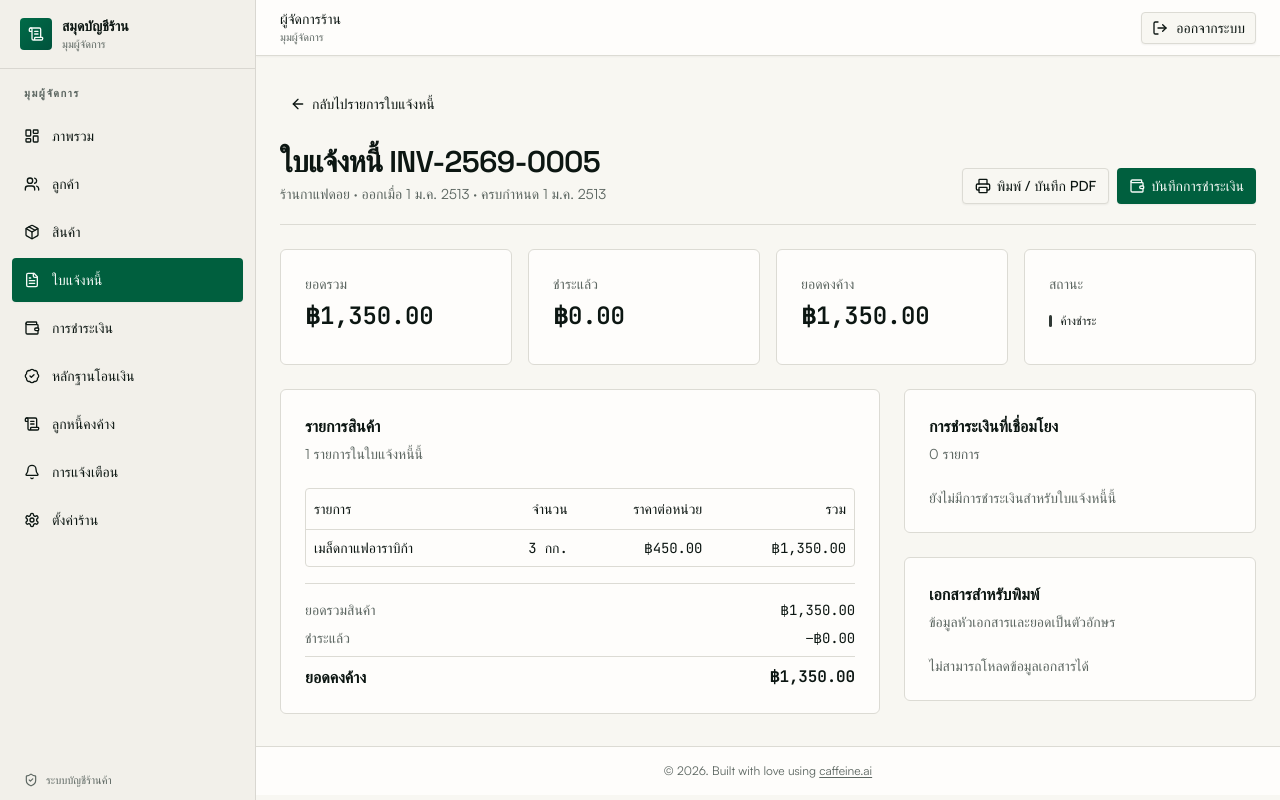
Test: InvoiceDetailPage › rejects a zero payment amount before submitting
Click the button with test id "invoice_detail.record_payment_button". click: (1187, 186)
box: [1117,168,1256,204]
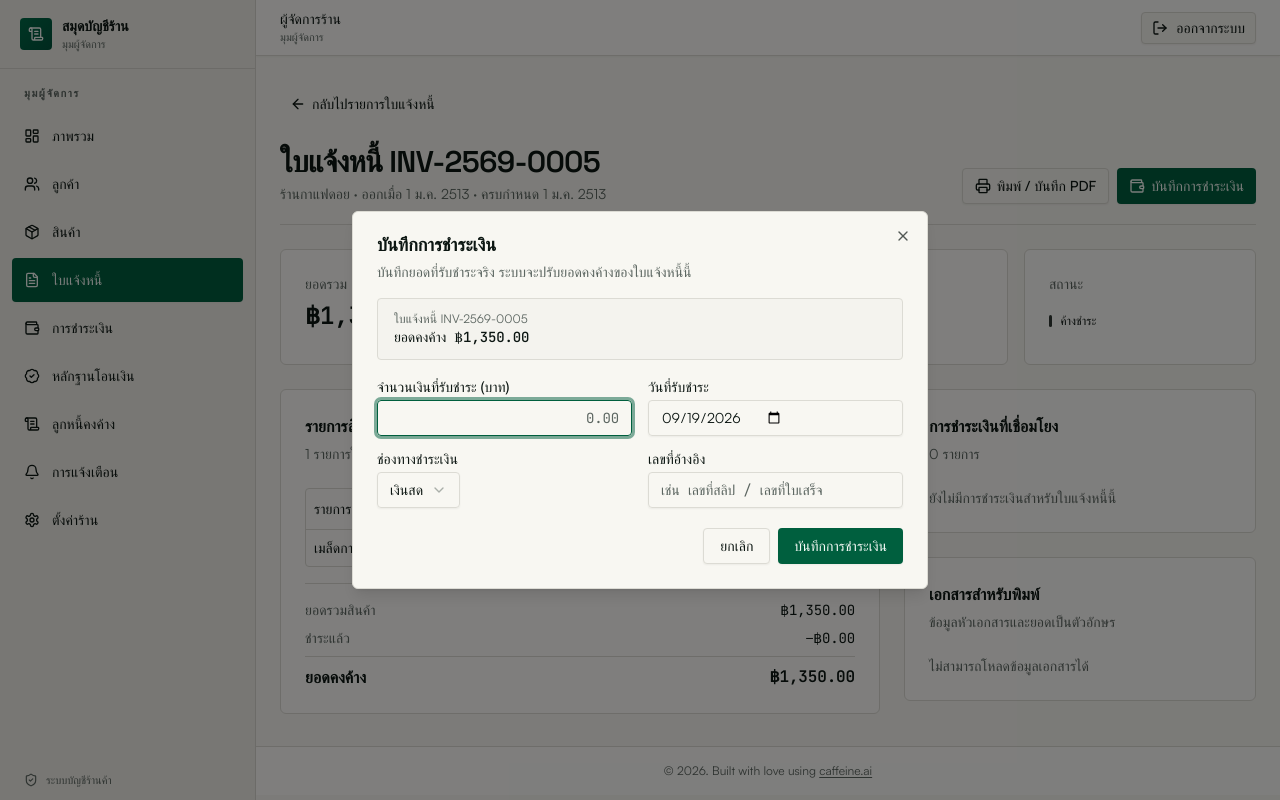
Type "0" into the field labelled "จำนวนเงินที่รับชำระ (บาท)". click: (504, 418)
box: [377,400,632,436]
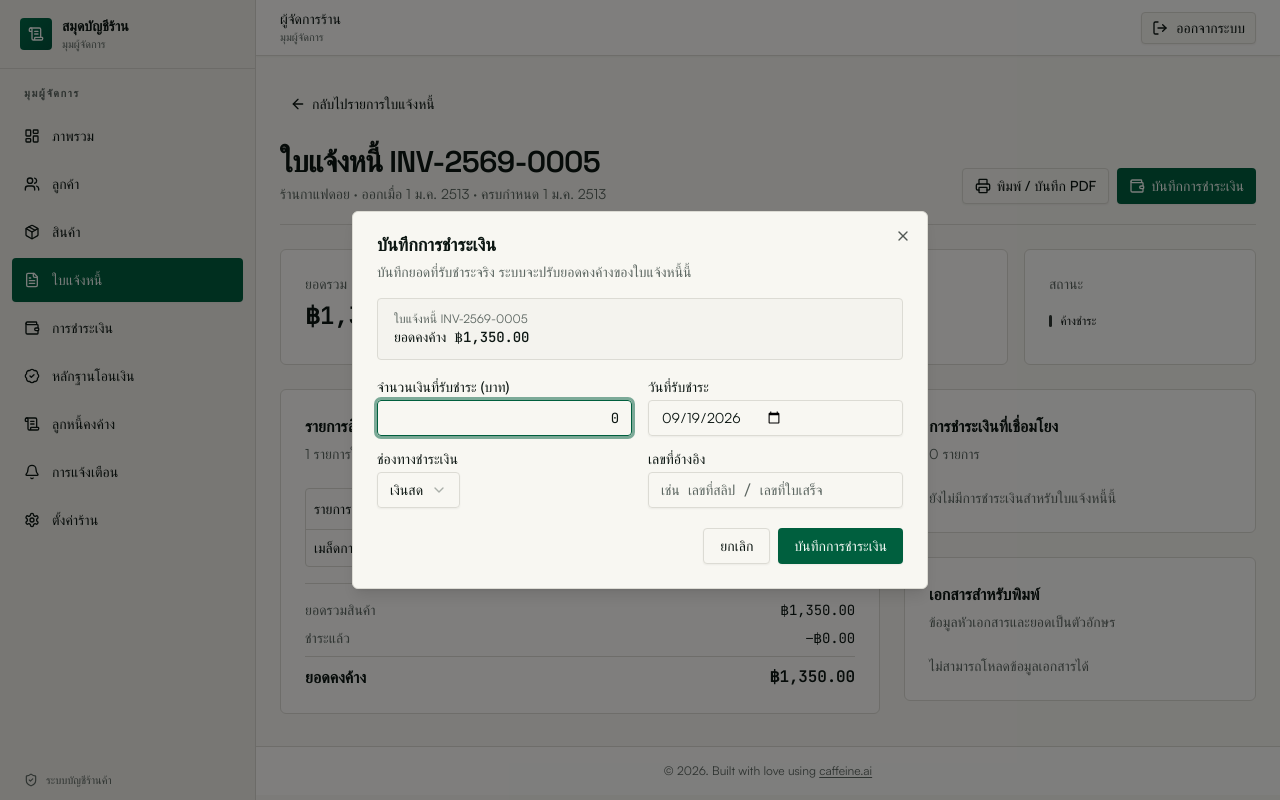
Click the button "บันทึกการชำระเงิน". click: (841, 546)
box: [778,528,903,564]
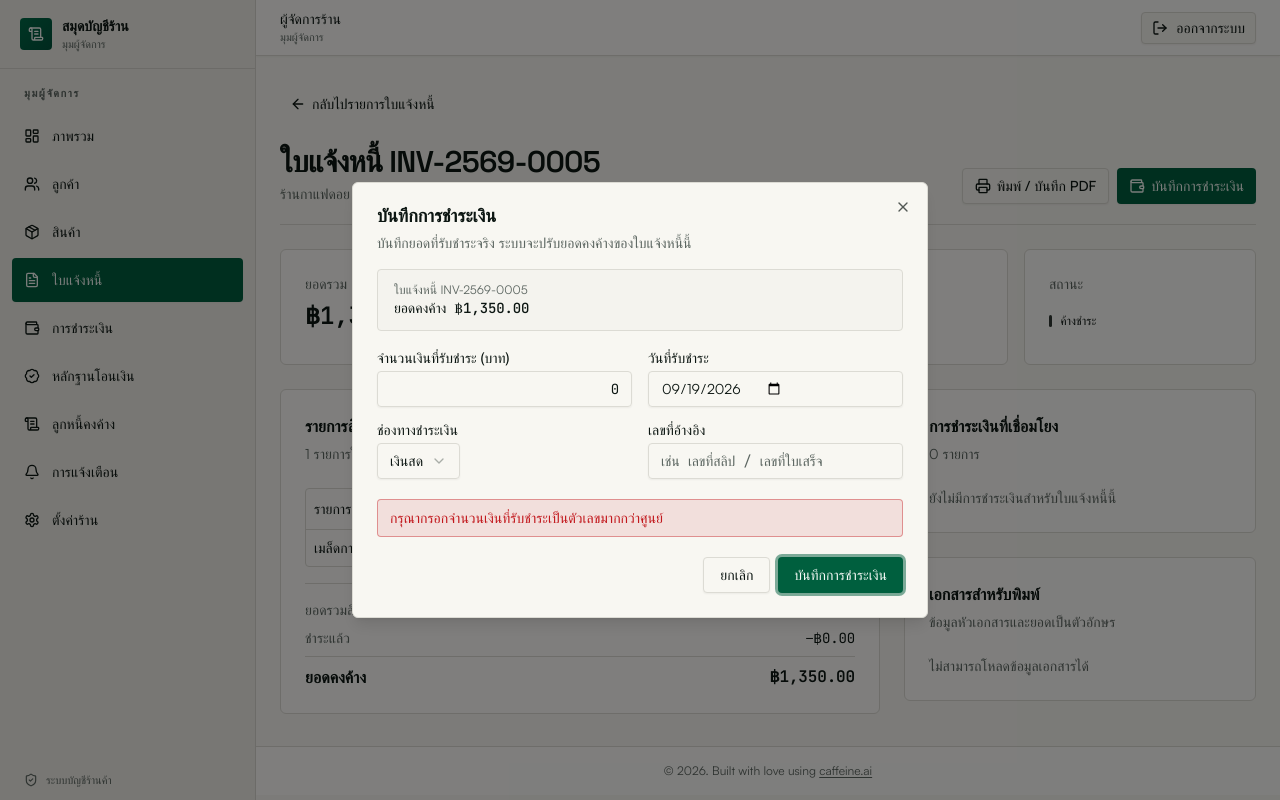
expect the text "กรุณากรอกจำนวนเงินที่รับชำระเป็นตัวเลขมากกว่าศูนย์" is shown: met, box [377,499,903,537]
